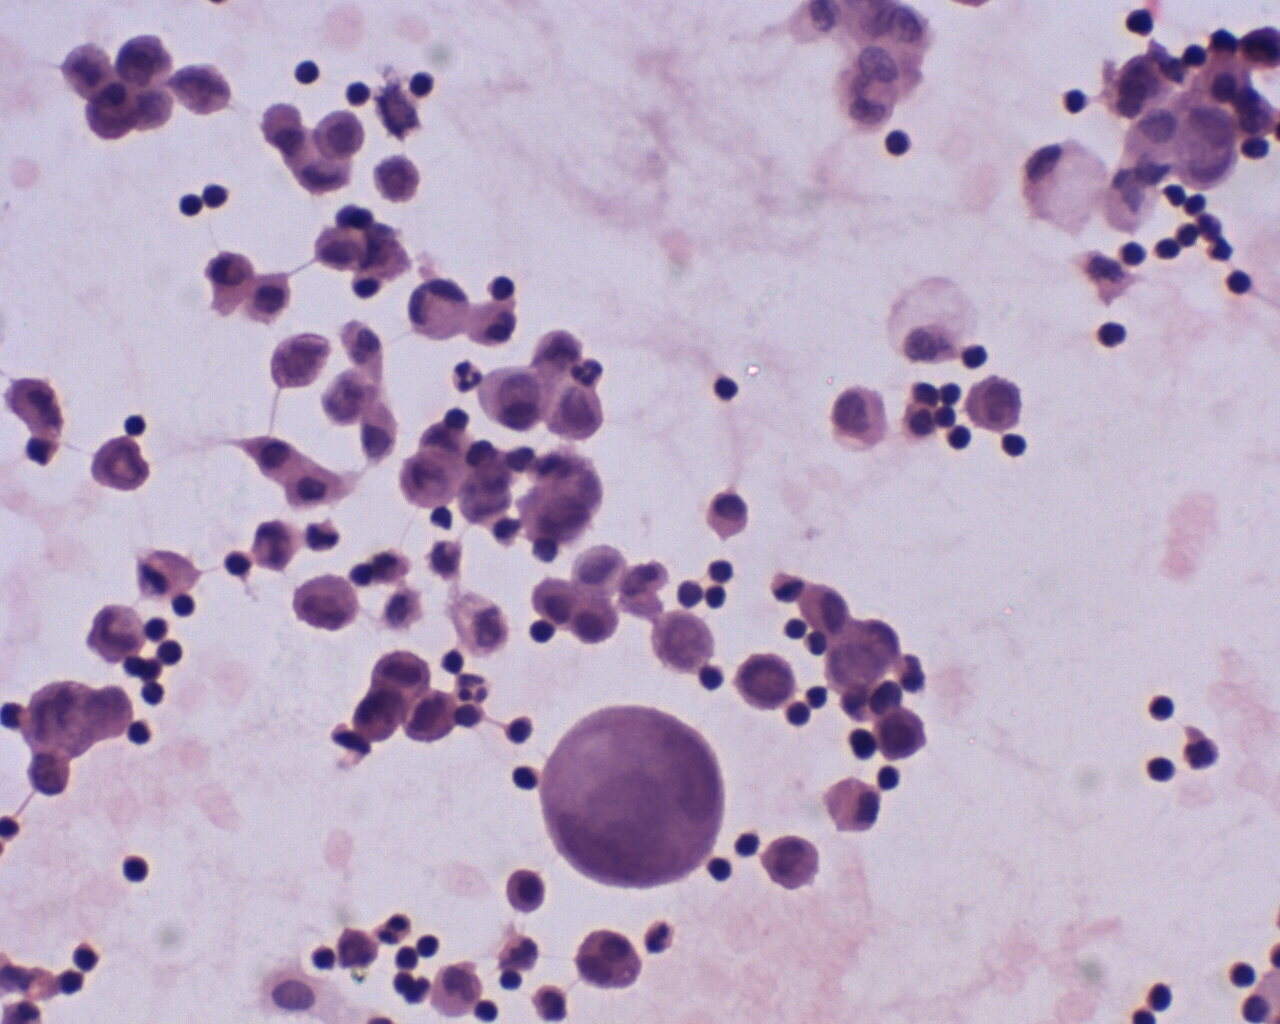ab: (534, 704, 725, 888), (86, 435, 157, 492), (734, 649, 798, 711)
histo: (1024, 133, 1109, 237)
lymph: (882, 125, 921, 163), (1145, 689, 1182, 728), (1225, 957, 1260, 993), (115, 853, 154, 884), (995, 429, 1032, 459), (960, 338, 993, 370), (171, 187, 203, 218), (293, 56, 324, 87), (711, 373, 740, 404), (473, 992, 501, 1024)
meso: (817, 773, 882, 833), (279, 463, 349, 513), (529, 575, 588, 629), (701, 486, 750, 544)
neutro: (447, 354, 484, 393), (566, 356, 606, 390)
